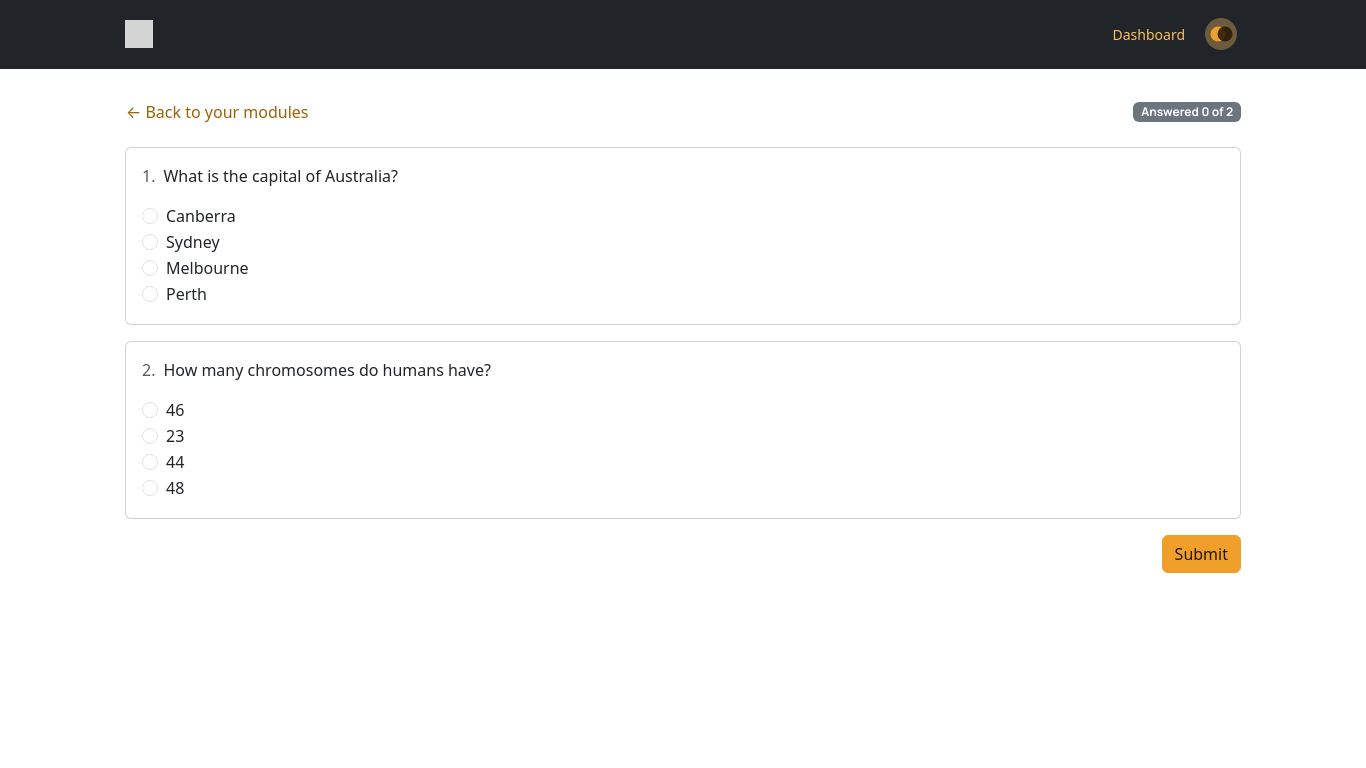
Test: answering questions › sends one answer request per question
This screenshot has width=1366, height=768.
Expected: the text "What is the capital of Australia?" is shown, [164,165,398,187]
Click the radio button labelled "Canberra" at (150, 216), box [142,208,158,224]
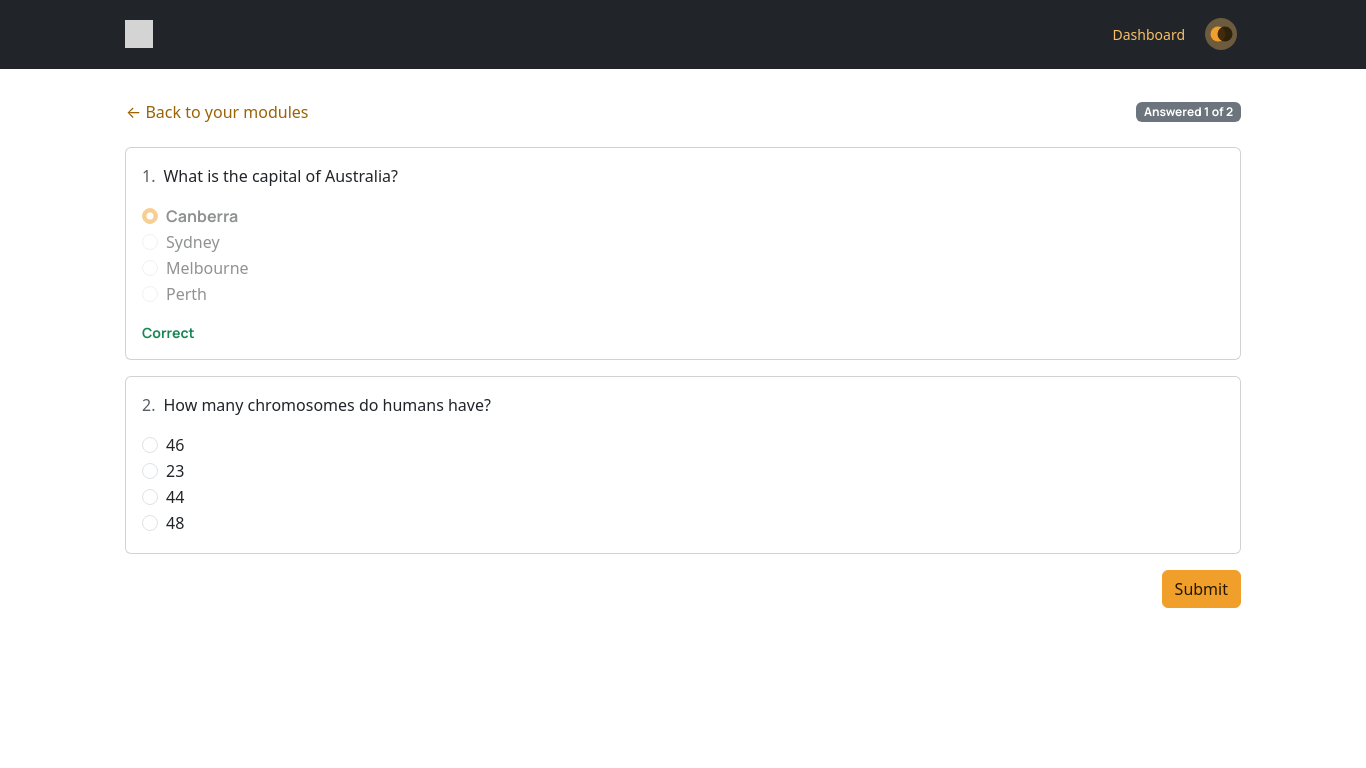
Expected: the text "Correct" is shown, [142,323,195,342]
